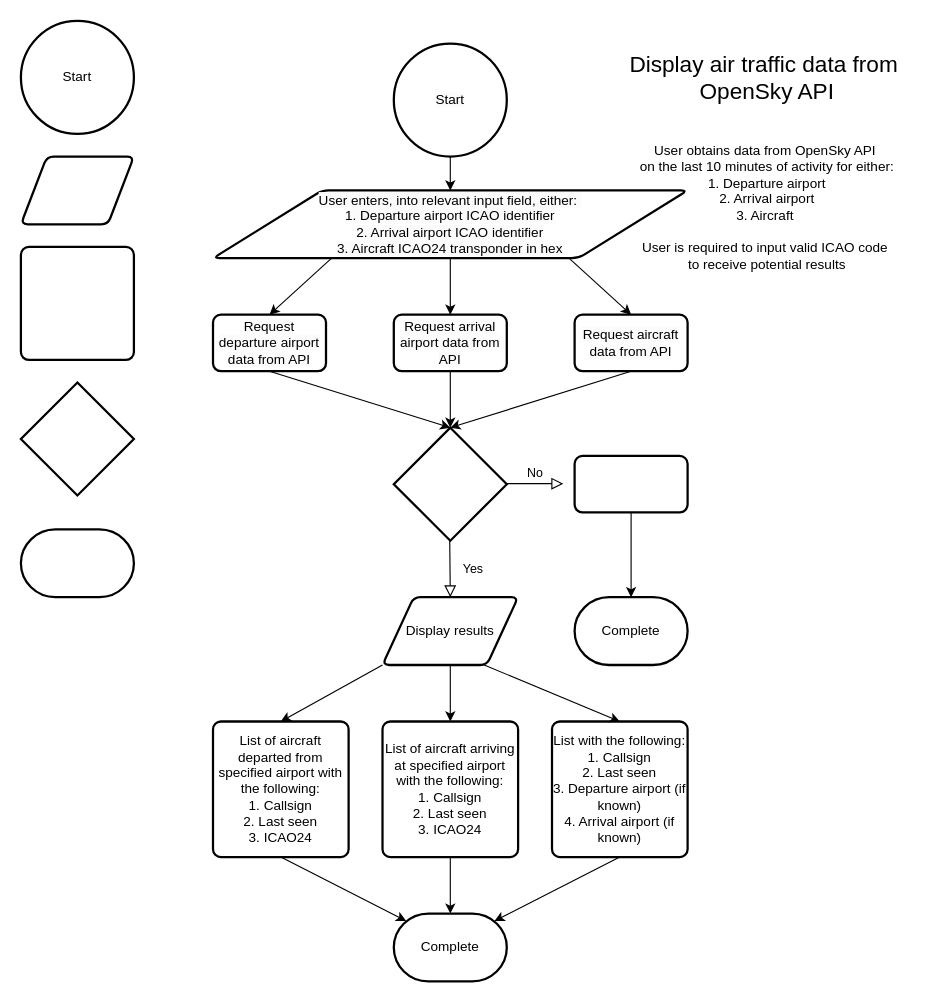
This 938x1001 diagram has some shape labels left out. The centre of each missing label's shape, as x and y in pixels:
"Data" goes at point 76,190.
"Decision" goes at point 76,438.
"Display error" goes at point 630,483.
"Process" goes at point 76,302.
"Termination" goes at point 76,563.
"Valid data received?" goes at point 449,483.
